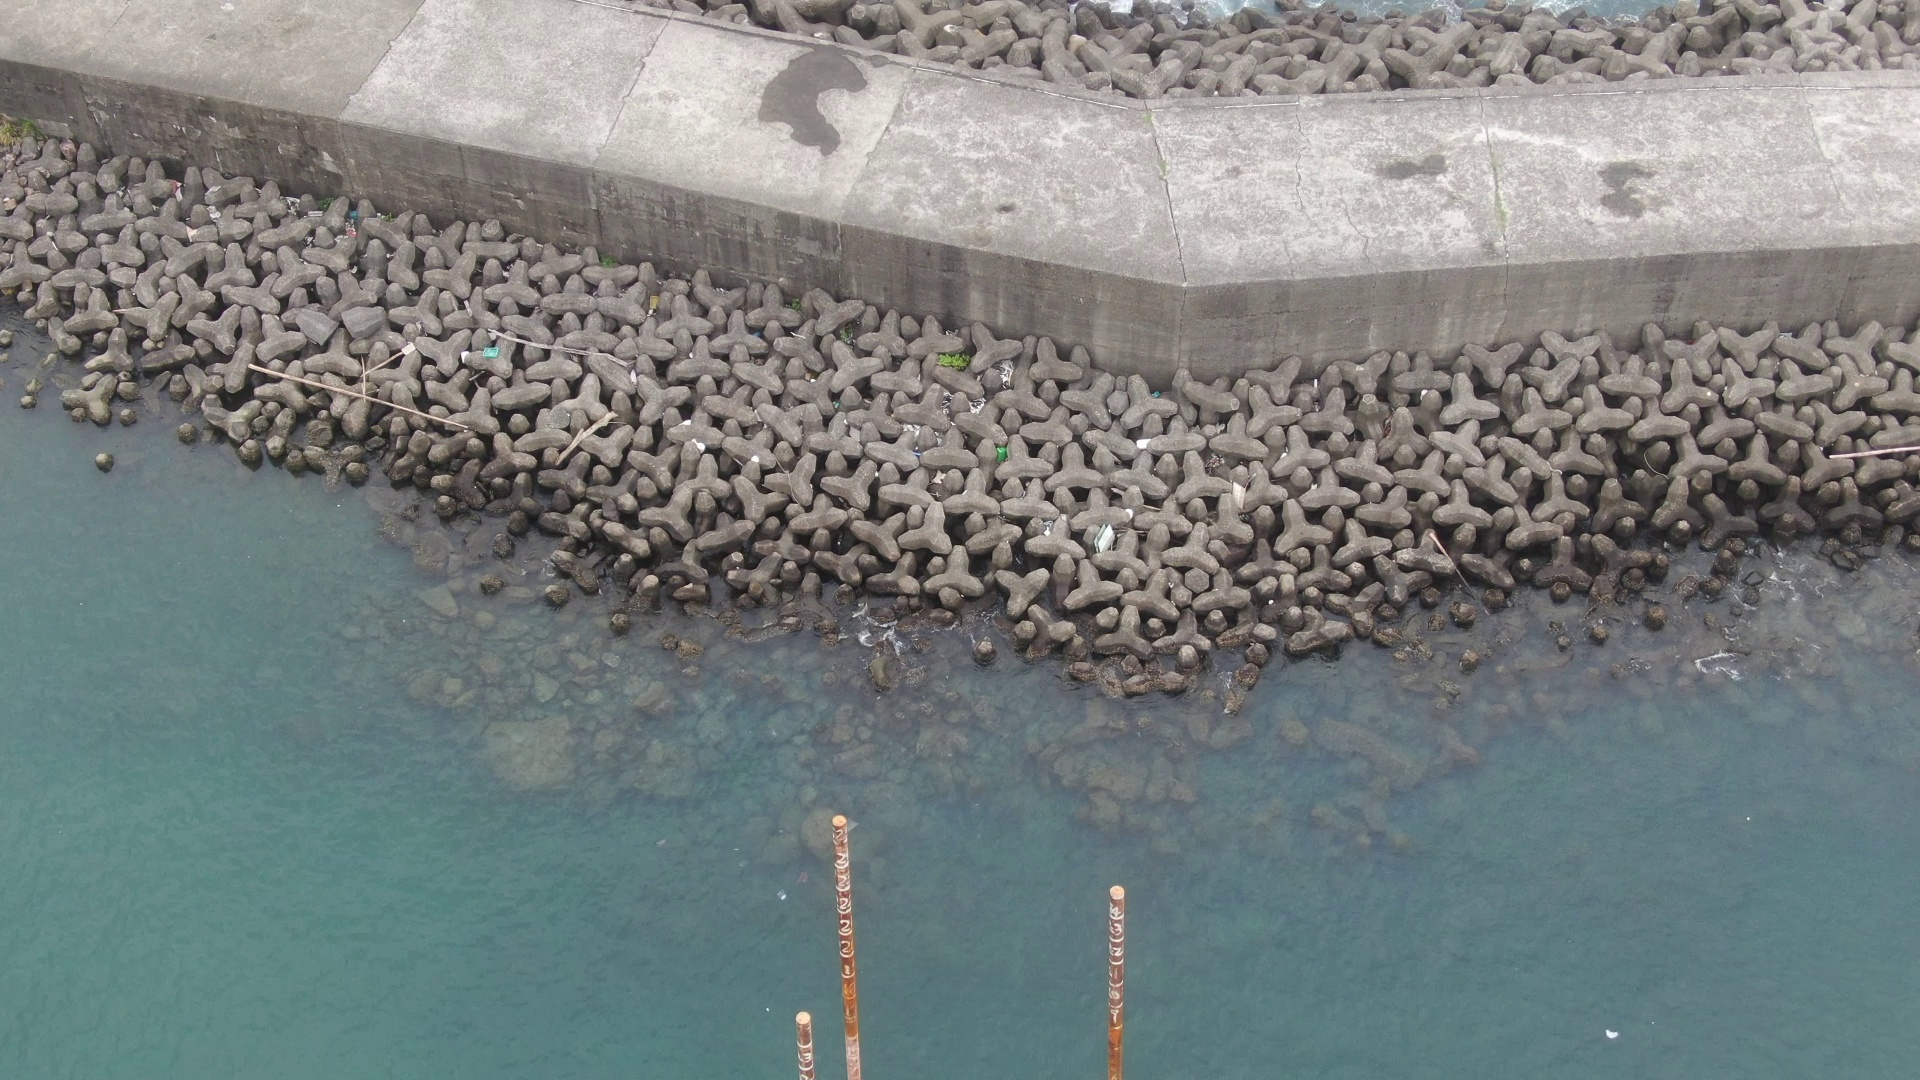garbage: (1076, 516, 1131, 556), (988, 434, 1031, 477), (479, 338, 510, 369)
